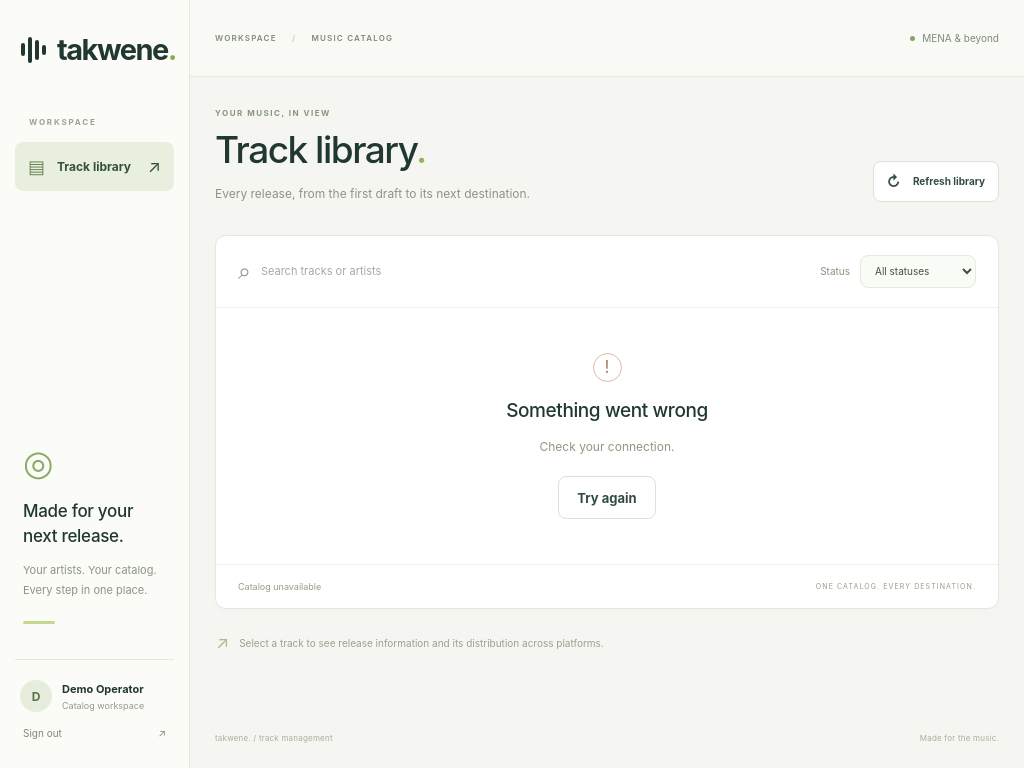
catalog views › shows and recovers from a catalog request failure
The width and height of the screenshot is (1024, 768).
expect the message "! Something went wrong Check your connection. Try again" is shown: met, box [506,353,708,519]
Click the button "Try again".
click(607, 498)  # box [558,476,656,519]
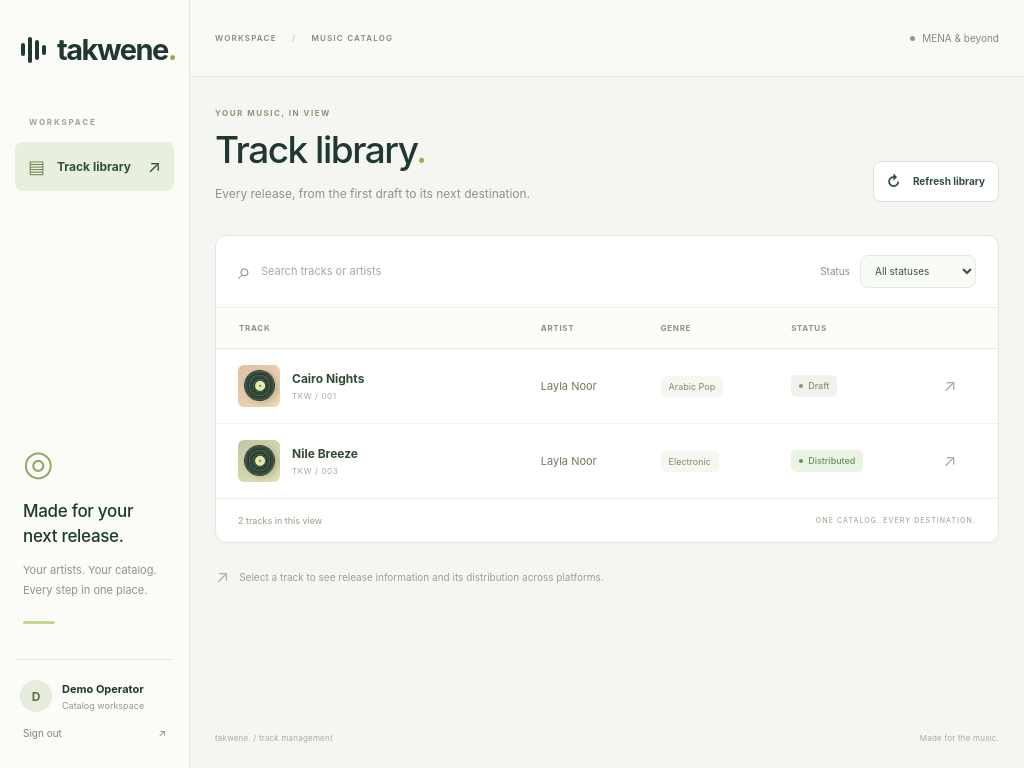
expect the link "Cairo Nights" is shown: met, box [292,371,364,386]
